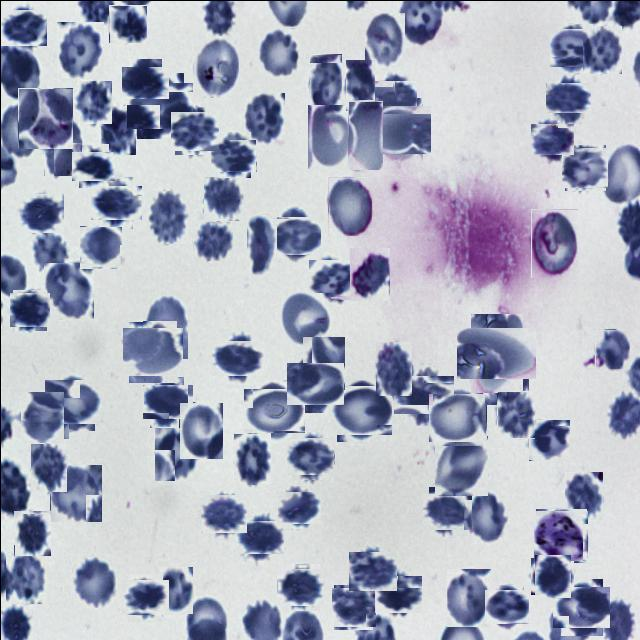red blood cell: (463, 320, 529, 386), (530, 208, 577, 277), (434, 435, 487, 495), (332, 382, 388, 438), (132, 77, 188, 133), (371, 101, 426, 158), (49, 463, 101, 521), (430, 389, 484, 444), (125, 324, 179, 378), (192, 34, 238, 97), (142, 296, 187, 360), (307, 104, 352, 168), (43, 262, 93, 318), (247, 384, 300, 436), (280, 292, 330, 347), (484, 342, 528, 404), (56, 21, 103, 78), (327, 176, 371, 235), (446, 568, 490, 626), (47, 376, 97, 427), (178, 401, 222, 458), (398, 370, 448, 420), (556, 582, 606, 632), (289, 358, 339, 408), (347, 100, 382, 170), (153, 426, 198, 480), (71, 553, 115, 607), (241, 92, 284, 146), (145, 189, 188, 243), (301, 335, 344, 389), (43, 114, 81, 175), (18, 392, 66, 440), (256, 26, 300, 77), (364, 12, 404, 68), (349, 247, 389, 300), (270, 212, 316, 258), (5, 552, 45, 603), (310, 256, 354, 302), (467, 491, 507, 541), (349, 548, 394, 592), (232, 432, 270, 484), (308, 53, 341, 112), (375, 341, 411, 395), (216, 336, 260, 380), (18, 190, 62, 234), (551, 26, 595, 70), (172, 108, 216, 152), (563, 145, 606, 189), (245, 213, 276, 274), (582, 25, 621, 73), (289, 434, 332, 477), (424, 490, 468, 532), (564, 471, 602, 519), (496, 390, 534, 438), (202, 492, 244, 535), (78, 225, 120, 268), (94, 180, 136, 223), (1, 6, 44, 48), (146, 380, 188, 422), (279, 566, 321, 608), (332, 586, 374, 628), (376, 573, 418, 615), (203, 176, 243, 220), (100, 106, 135, 156), (12, 509, 50, 555), (30, 443, 66, 491), (124, 576, 165, 618), (238, 516, 280, 556), (528, 418, 568, 459), (373, 77, 413, 118), (486, 586, 526, 626), (214, 134, 254, 174), (192, 220, 232, 260), (532, 556, 572, 596), (124, 62, 164, 102), (158, 566, 192, 613), (75, 80, 111, 123), (345, 59, 374, 110), (548, 78, 586, 116), (10, 290, 48, 328), (280, 488, 318, 526), (533, 120, 571, 158), (108, 5, 146, 42), (32, 233, 68, 272), (594, 328, 629, 368), (75, 147, 111, 184)
ring: (17, 87, 72, 148)
trophozoite: (534, 508, 586, 562)
